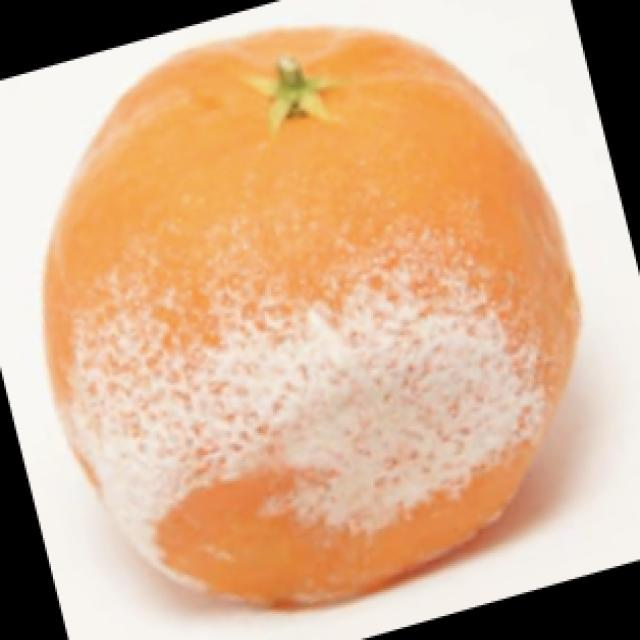sedikit-busuk: (46, 30, 578, 602)
